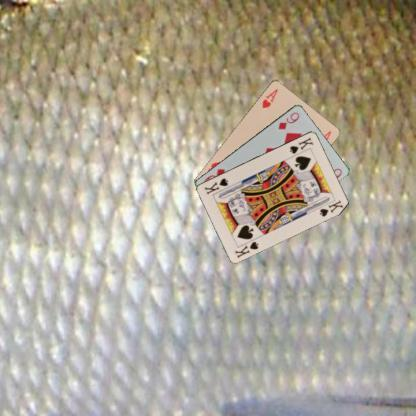9d: (276, 109, 300, 131)
Ah: (259, 86, 279, 109)
Ks: (287, 134, 314, 155), (232, 238, 260, 258)
